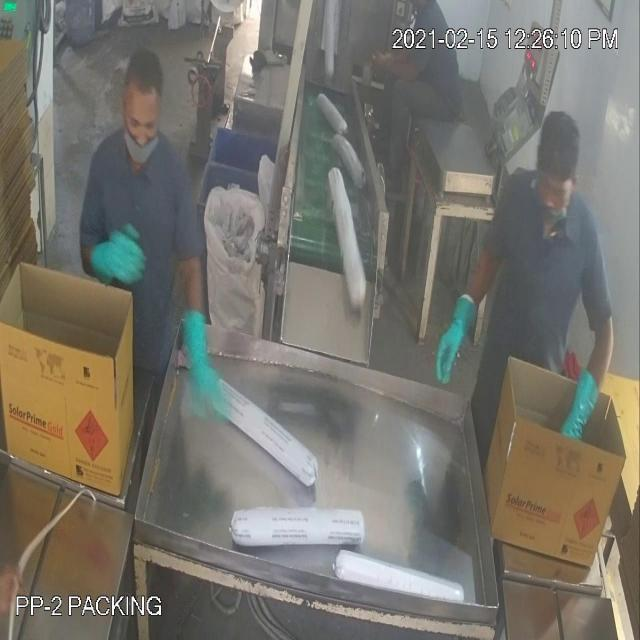Gloves: (44, 39, 576, 412)
